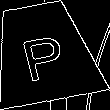P_N: (16, 24, 71, 81)
